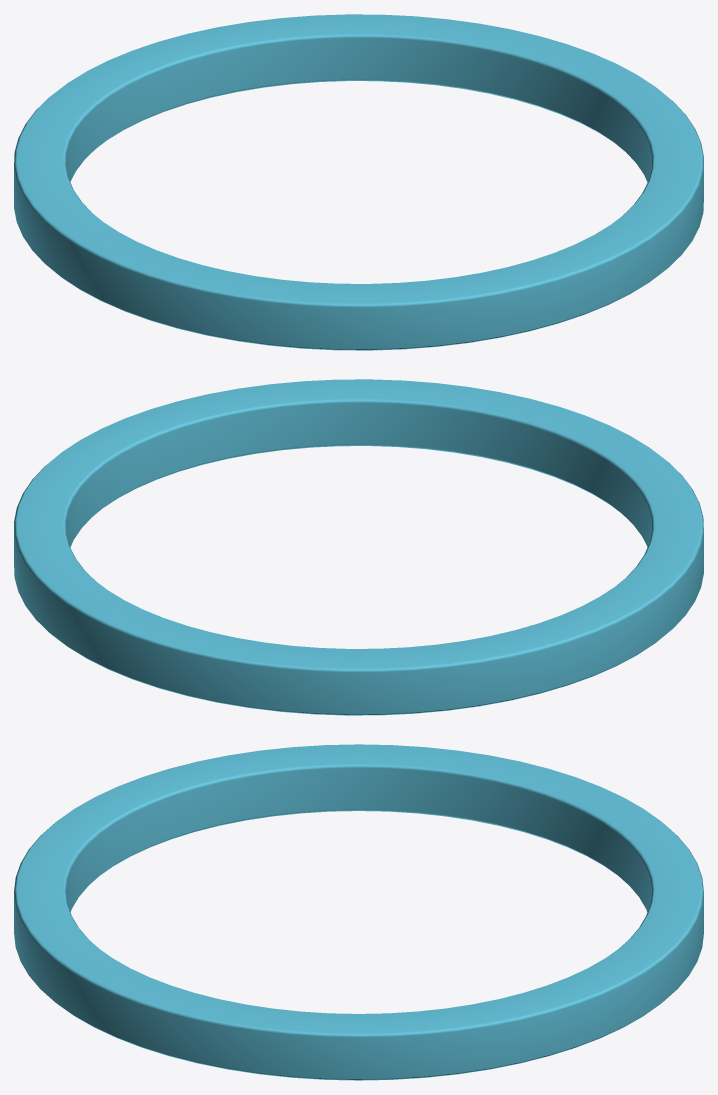
The picture shows the model from 3 angles, top to bottom: view 1: azimuth 30°, elevation 25°; view 2: azimuth 150°, elevation 25°; view 3: azimuth 270°, elevation 25°; orthographic projection.
Parts seen in each view (by area): view 1: seal_body; view 2: seal_body; view 3: seal_body.
Part boxes in pixels (x1,y1,x2,y2): seal_body: (14, 14, 703, 350); seal_body: (14, 379, 703, 715); seal_body: (14, 744, 703, 1080).
Size of the model in its own units: 0.0958 by 0.00723 by 0.0958.
